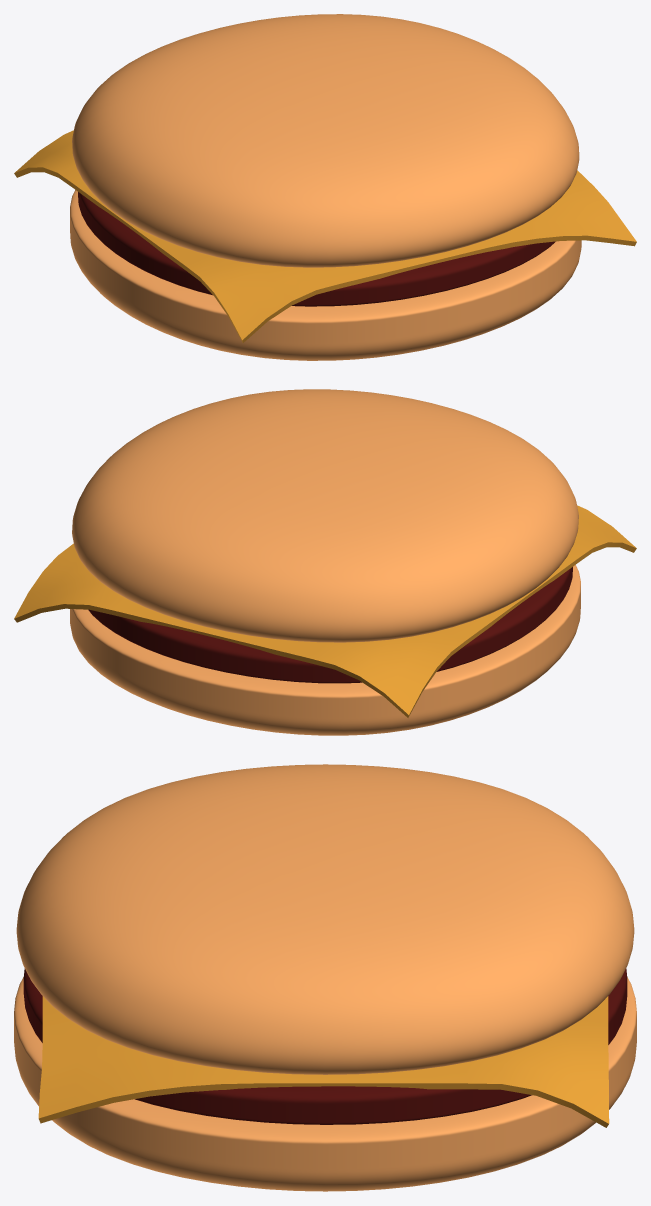
The model's file is hamburger.glb.
3 renders of one model, top to bottom at view 1: azimuth 30°, elevation 25°; view 2: azimuth 150°, elevation 25°; view 3: azimuth 270°, elevation 25°, orthographic. The views are drawn at different scales.
Visible parts, largest first — view 1: Cube.002, Cube, Plane, Cube.001; view 2: Cube.002, Cube, Plane, Cube.001; view 3: Cube.002, Cube, Plane, Cube.001.
Boxes of the visible parts, bbox=[...] form: Cube.002: bbox=[72, 14, 579, 267]; Cube: bbox=[70, 190, 581, 360]; Plane: bbox=[14, 130, 636, 342]; Cube.001: bbox=[78, 192, 555, 306]; Cube.002: bbox=[72, 389, 578, 642]; Cube: bbox=[70, 565, 580, 735]; Plane: bbox=[14, 505, 636, 717]; Cube.001: bbox=[88, 567, 572, 683]; Cube.002: bbox=[16, 764, 634, 1074]; Cube: bbox=[14, 977, 636, 1191]; Plane: bbox=[38, 996, 609, 1127]; Cube.001: bbox=[23, 968, 627, 1124].
Size of the model in its own units: 9.17 by 4.05 by 9.17.
